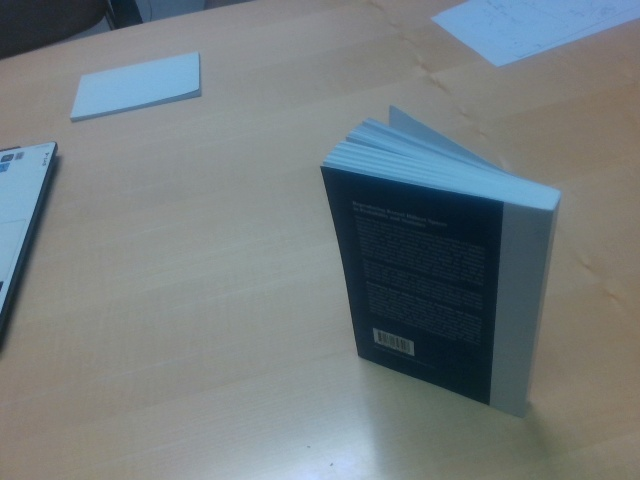book: (319, 107, 563, 418)
